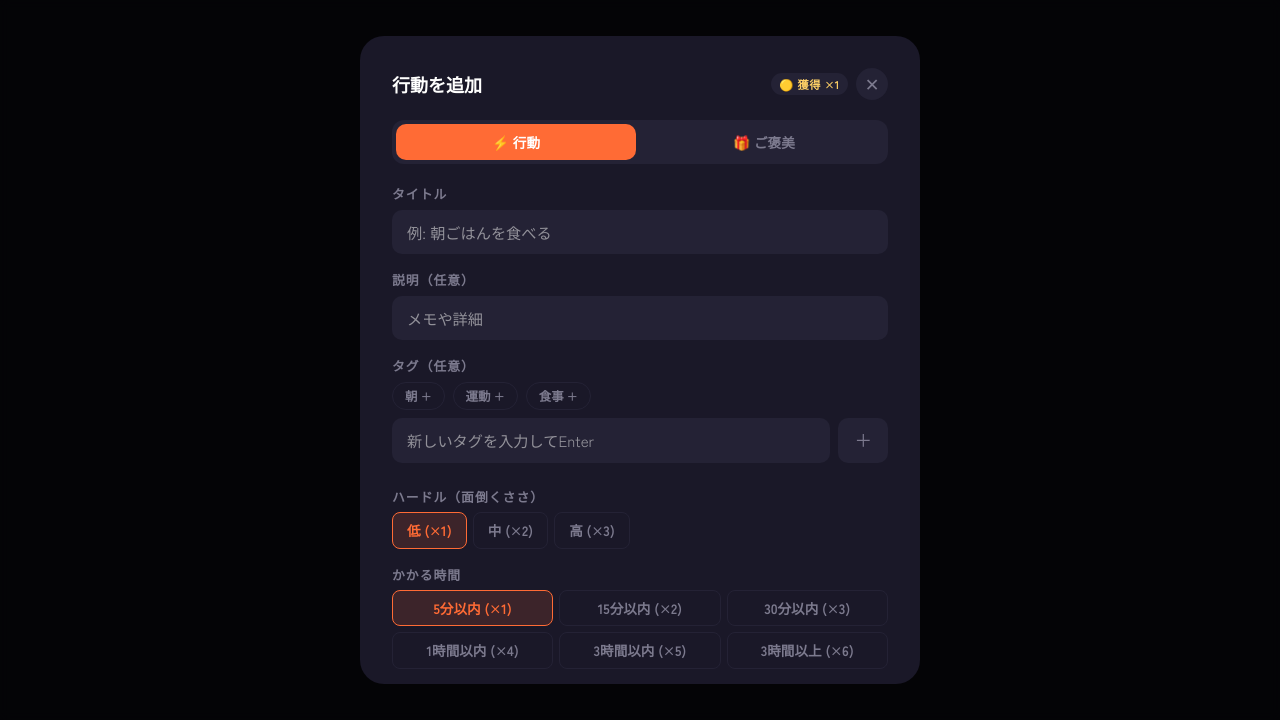
Test: ItemModal › タグ操作 › タグ候補をクリックするとタグが追加される
// 「食事 +」ボタンをクリック（候補タグ）
Click the button "食事 +". click: [558, 396]
box: top-left (526, 382), bottom-right (591, 410)
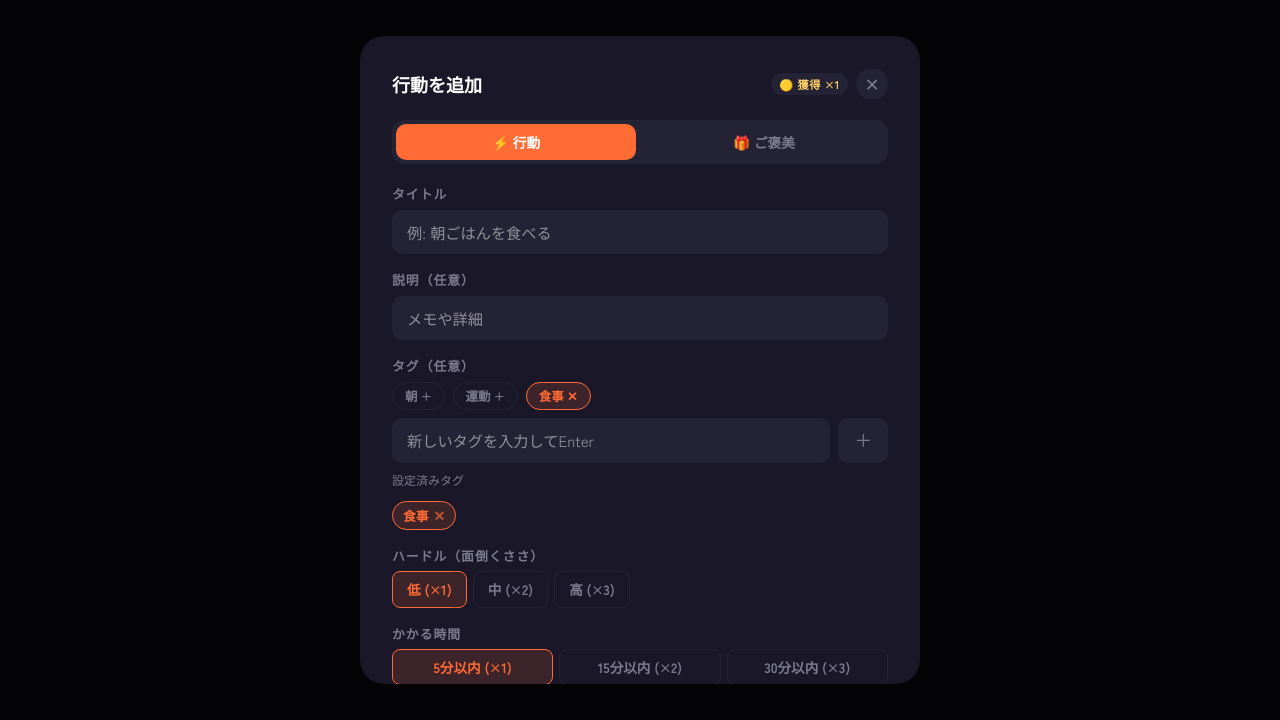
Result: the text "設定済みタグ" is shown at top-left (392, 471), bottom-right (464, 488)
